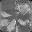people: (17, 4, 30, 16), (7, 19, 16, 32), (17, 18, 29, 26), (0, 12, 12, 18), (0, 19, 10, 26)
